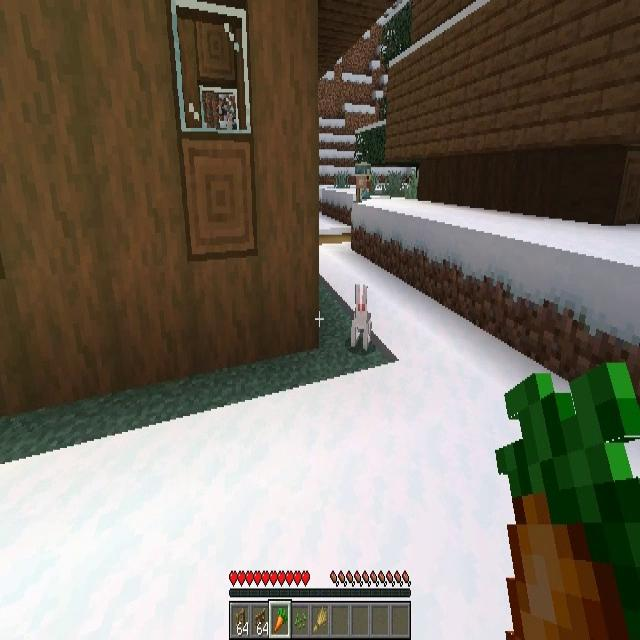rabbit: (350, 283, 371, 352)
